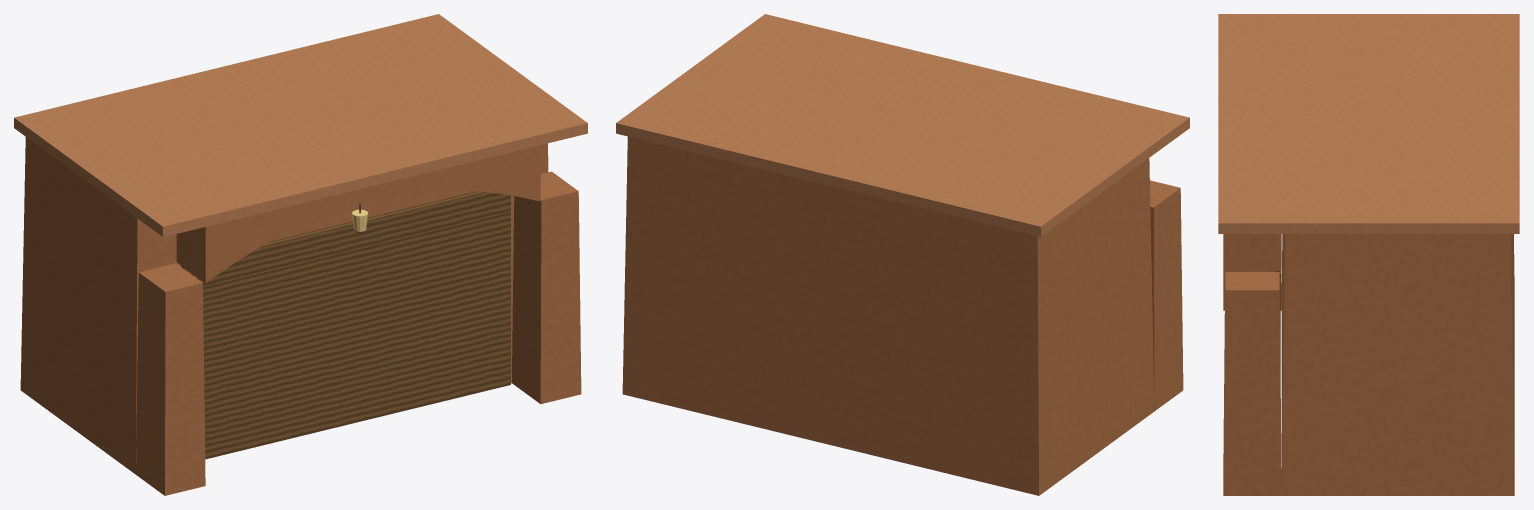
File: SM_Souq_Stall_W5D30H30.fbx
The picture shows the model from 3 angles, left to right: view 1: azimuth 30°, elevation 25°; view 2: azimuth 150°, elevation 25°; view 3: azimuth 270°, elevation 25°; orthographic projection.
Parts seen in each view (by area): view 1: SM_Souq_Stall_W5D30H30; view 2: SM_Souq_Stall_W5D30H30; view 3: SM_Souq_Stall_W5D30H30.
Boxes of the visible parts, x1=… form: SM_Souq_Stall_W5D30H30: x1=14, y1=14, x2=587, y2=495; SM_Souq_Stall_W5D30H30: x1=616, y1=14, x2=1189, y2=495; SM_Souq_Stall_W5D30H30: x1=1218, y1=14, x2=1519, y2=495.
Size of the model in its own units: 5.1 by 3.12 by 3.1.
